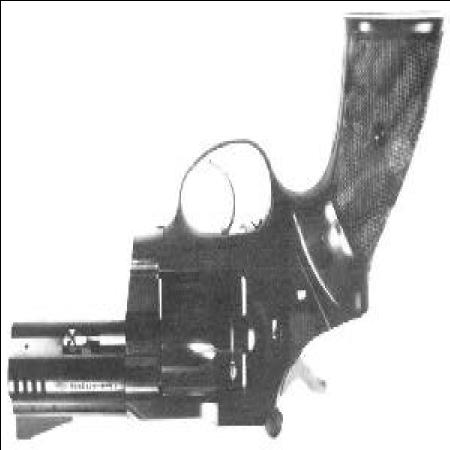Pistol: (12, 16, 447, 443)
